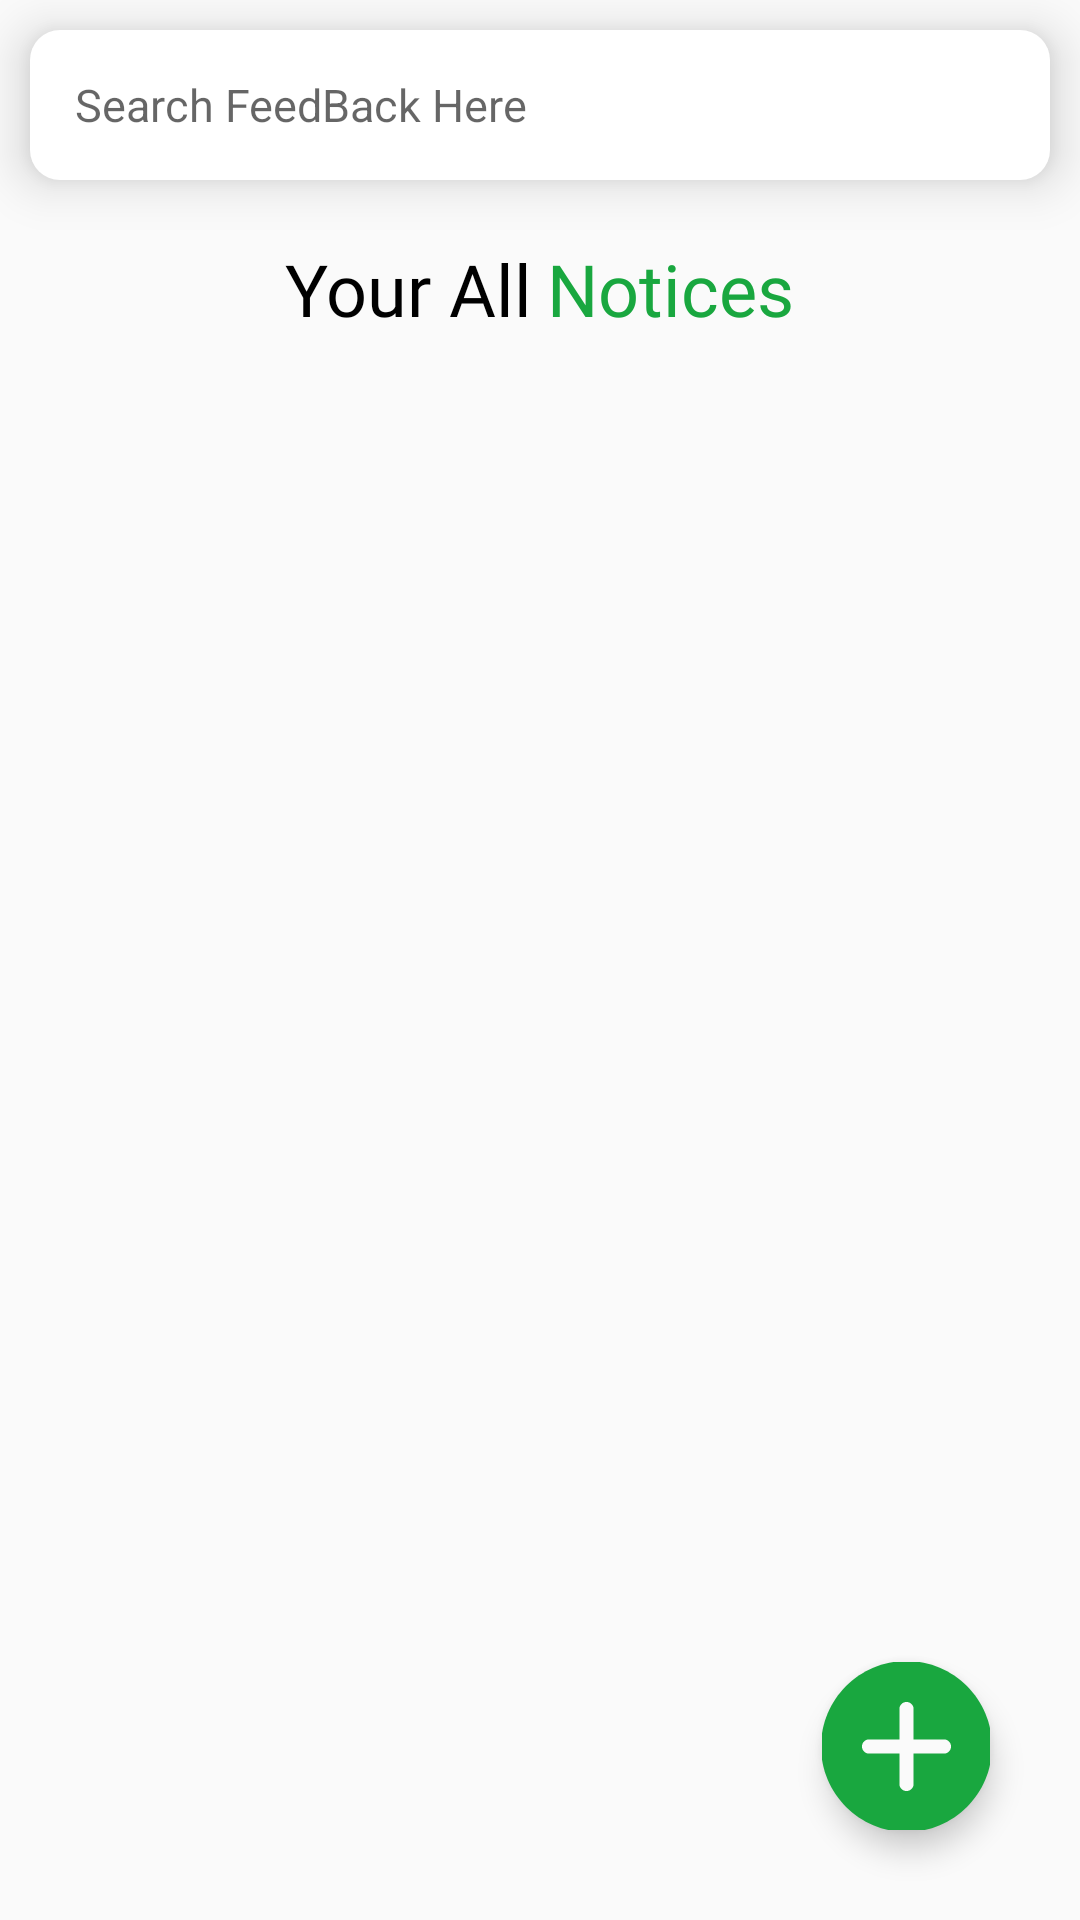

Icons on this 1080w x 1920h Android screen, each with the point to tap as (x,y):
addbtnsvg: (906,1746)
